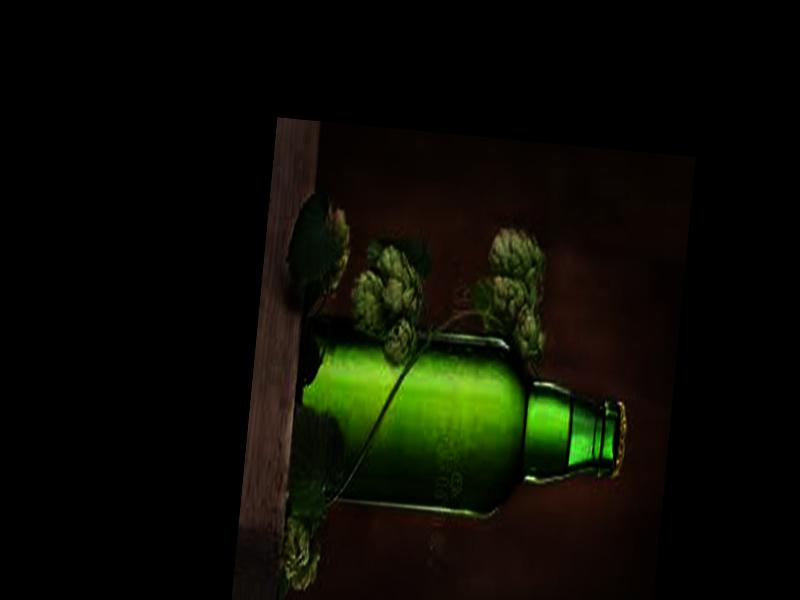Beer: (280, 322, 635, 531)
